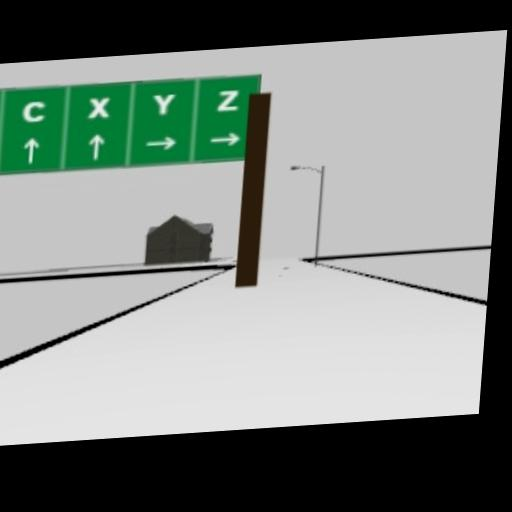C: (21, 100, 46, 122)
Right: (144, 135, 177, 152), (208, 131, 241, 147)
Straight: (22, 135, 40, 163), (88, 133, 106, 159)
X: (87, 96, 110, 120)
Y: (151, 93, 176, 116)
Z: (216, 89, 239, 111)
